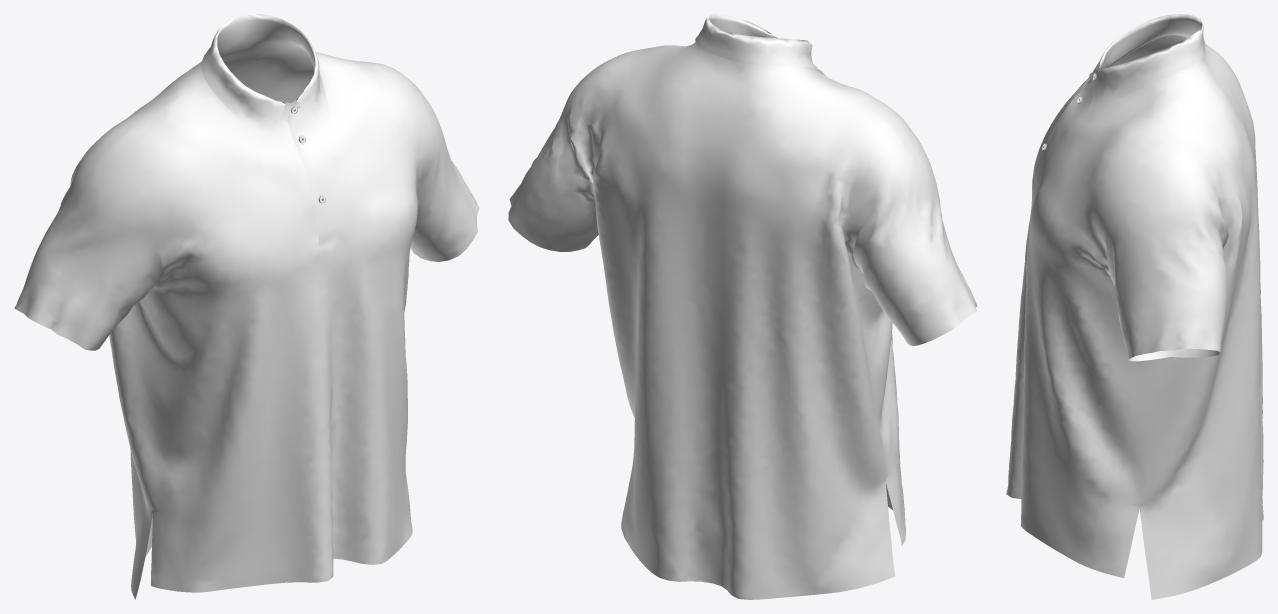
Rendered from Polo.glb.
3 renders of one model, left to right at view 1: azimuth 30°, elevation 25°; view 2: azimuth 150°, elevation 25°; view 3: azimuth 270°, elevation 25°, orthographic. The views are drawn at different scales.
Visible parts, largest first — view 1: Polo; view 2: Polo; view 3: Polo.
Boxes of the visible parts, <box> form: Polo: <box>14,14,479,599</box>; Polo: <box>508,14,977,599</box>; Polo: <box>1006,14,1263,599</box>.
Size of the model in its own units: 0.6972 by 0.7851 by 0.3548.
Materials: 2 (2 with a texture image).
